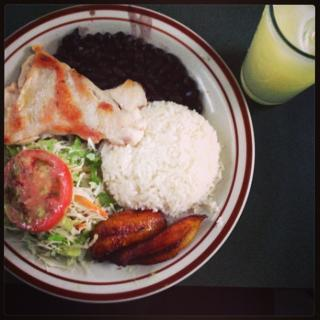tomato: (14, 149, 71, 234)
